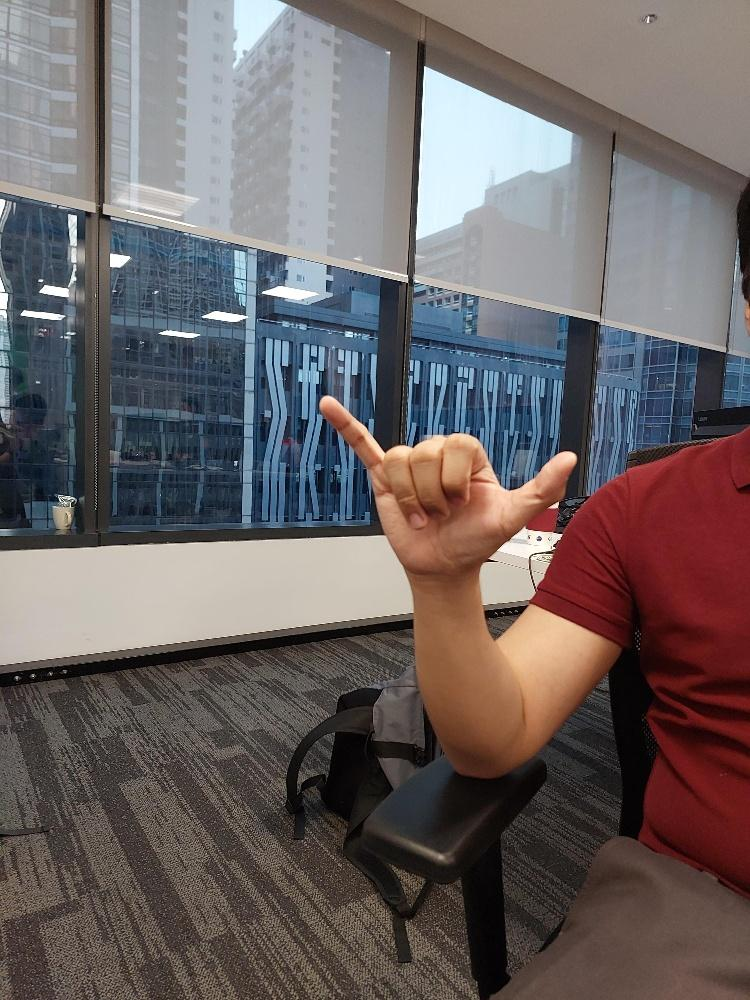y: (316, 391, 581, 581)
